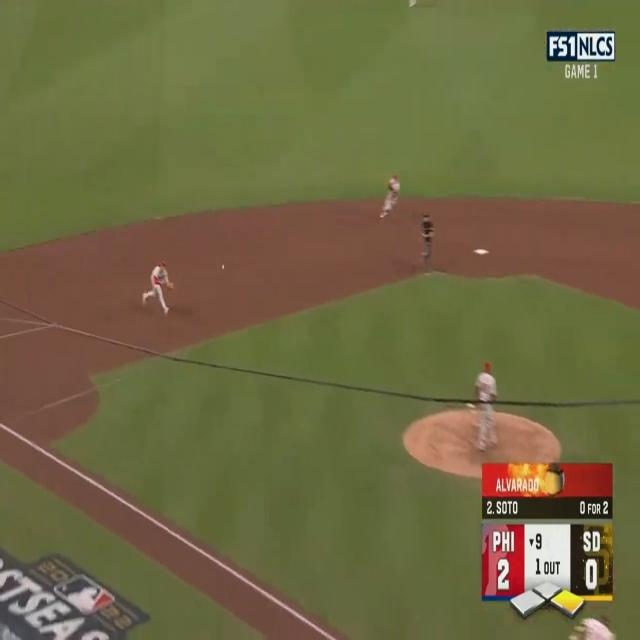baseball: (222, 264, 224, 270)
